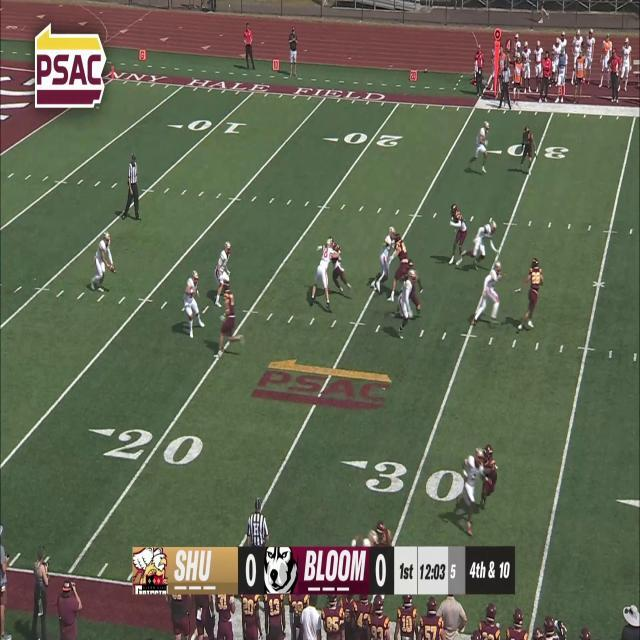football: (110, 262, 116, 274)
